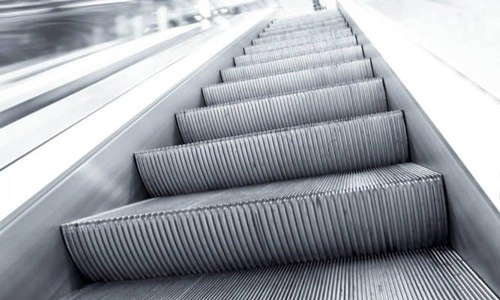escada: (87, 40, 463, 300)
